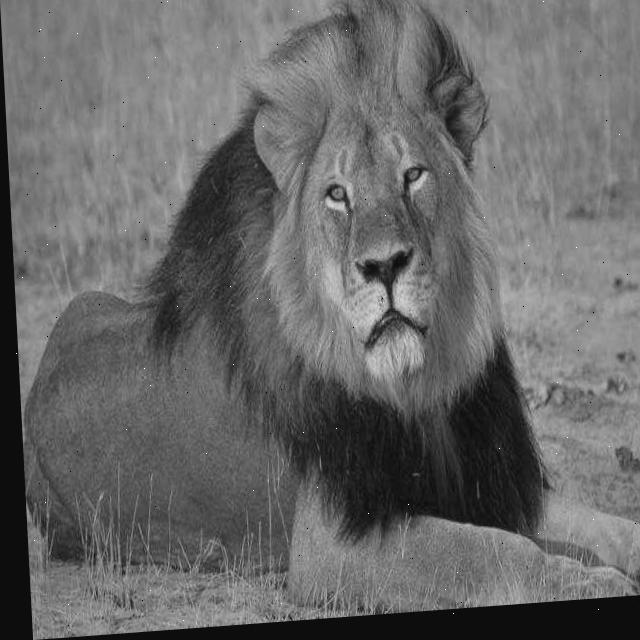Lion: (83, 18, 618, 617)
